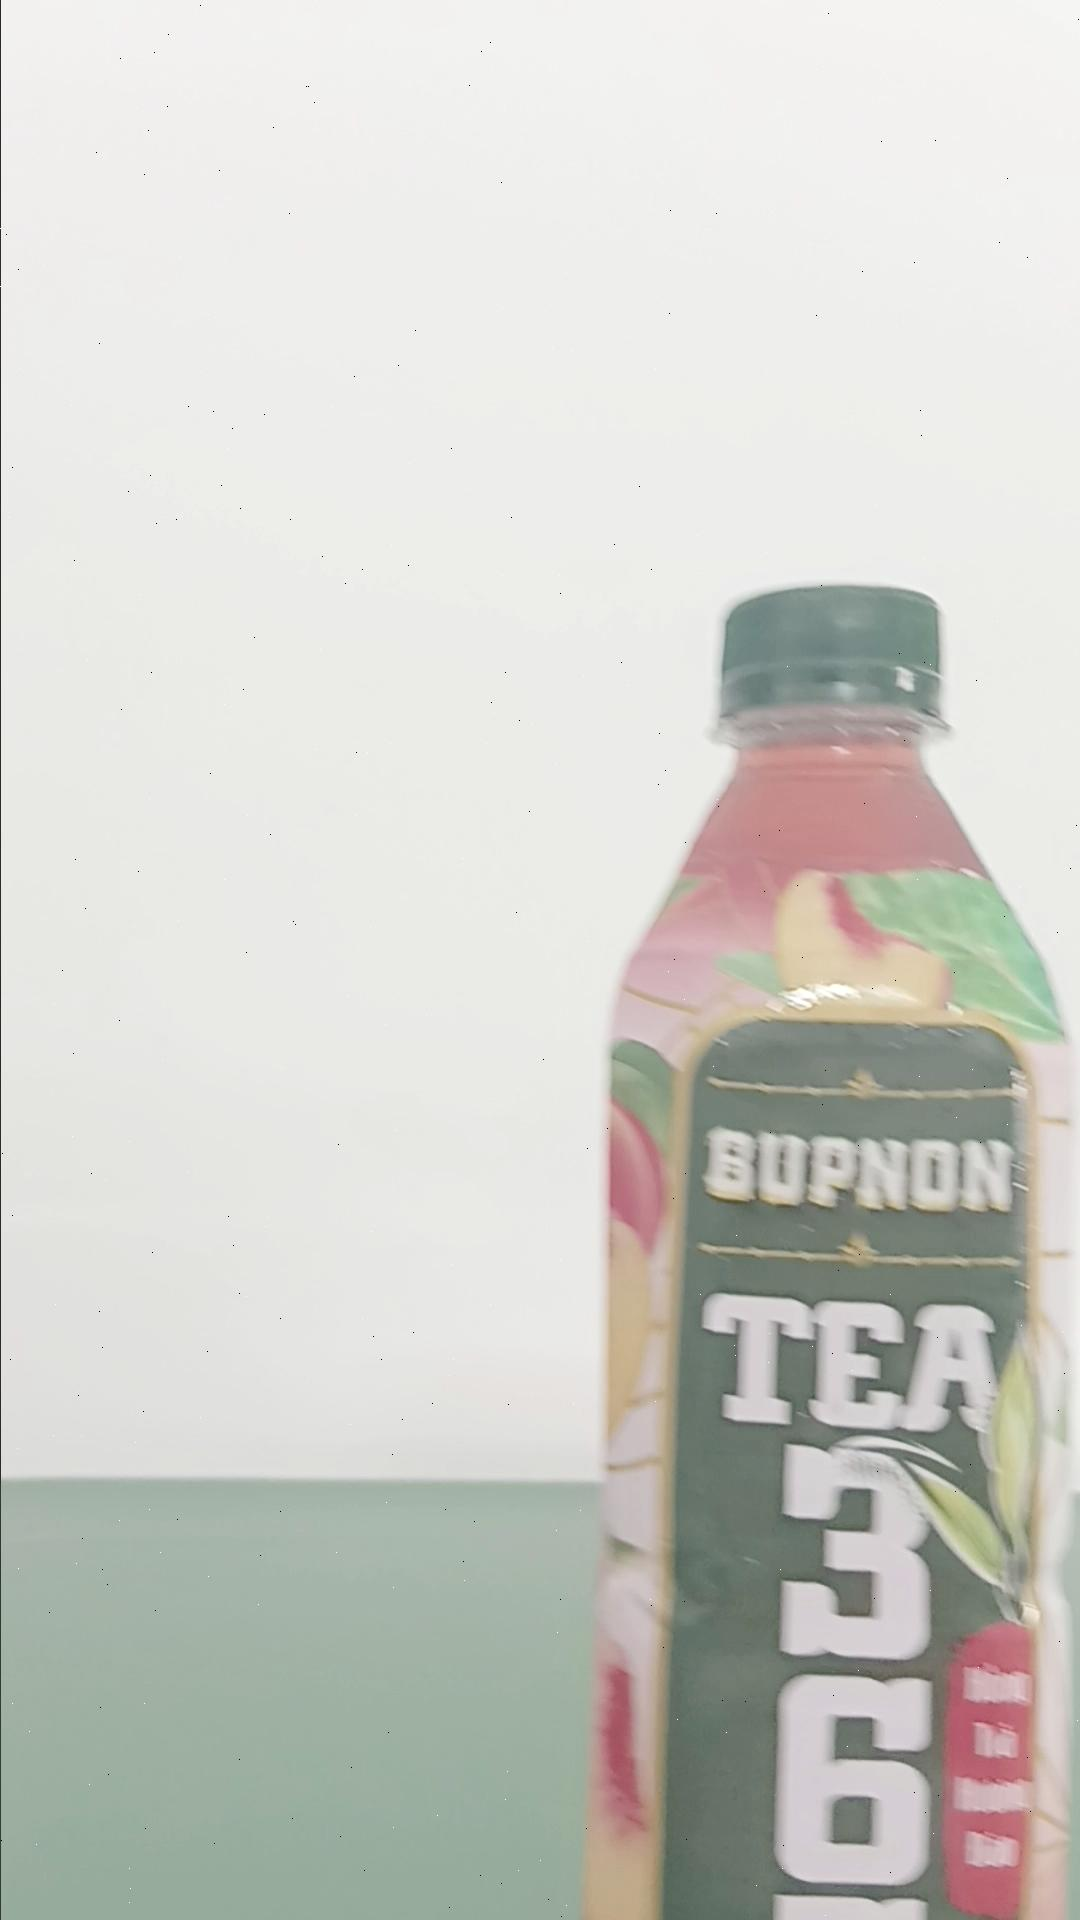khong loi: (582, 580, 1075, 1915)
